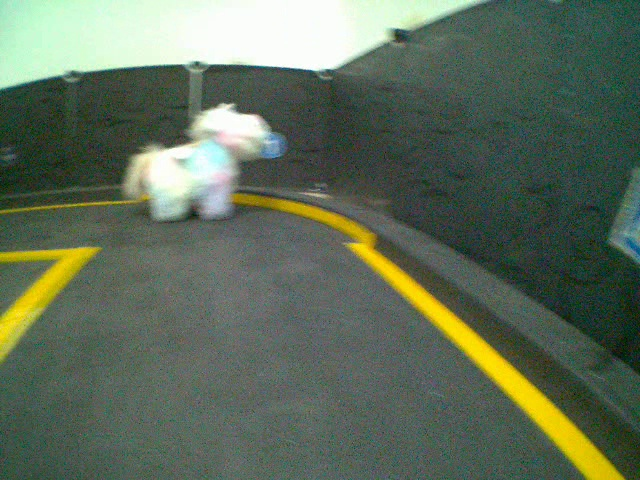unicorn: (116, 100, 269, 223)
